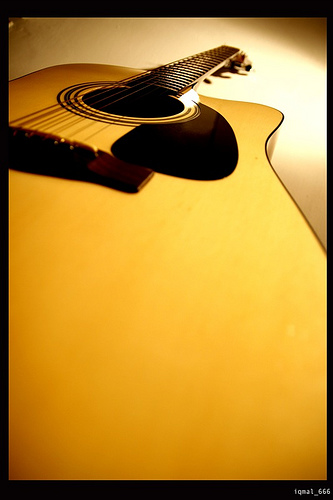guitar: (9, 43, 325, 479)
